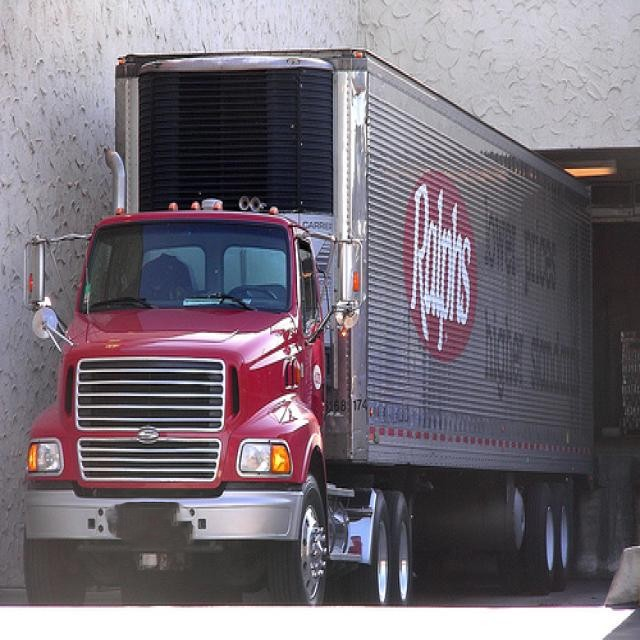truck: (21, 43, 600, 602)
